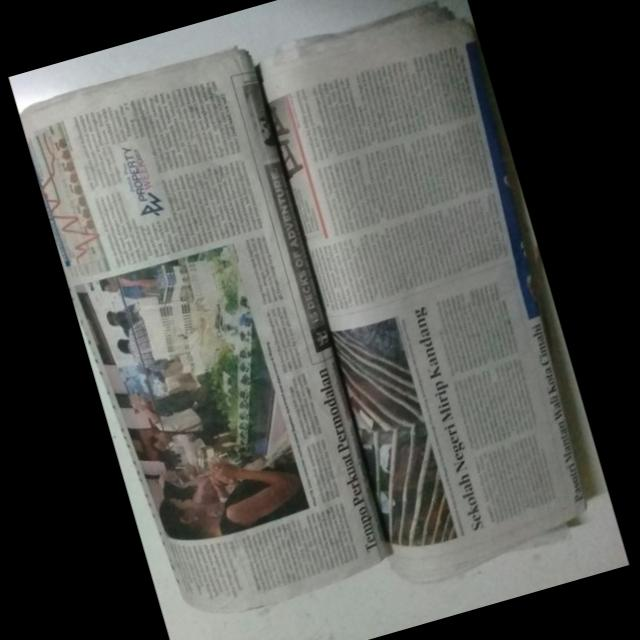Koran: (16, 0, 617, 640)
